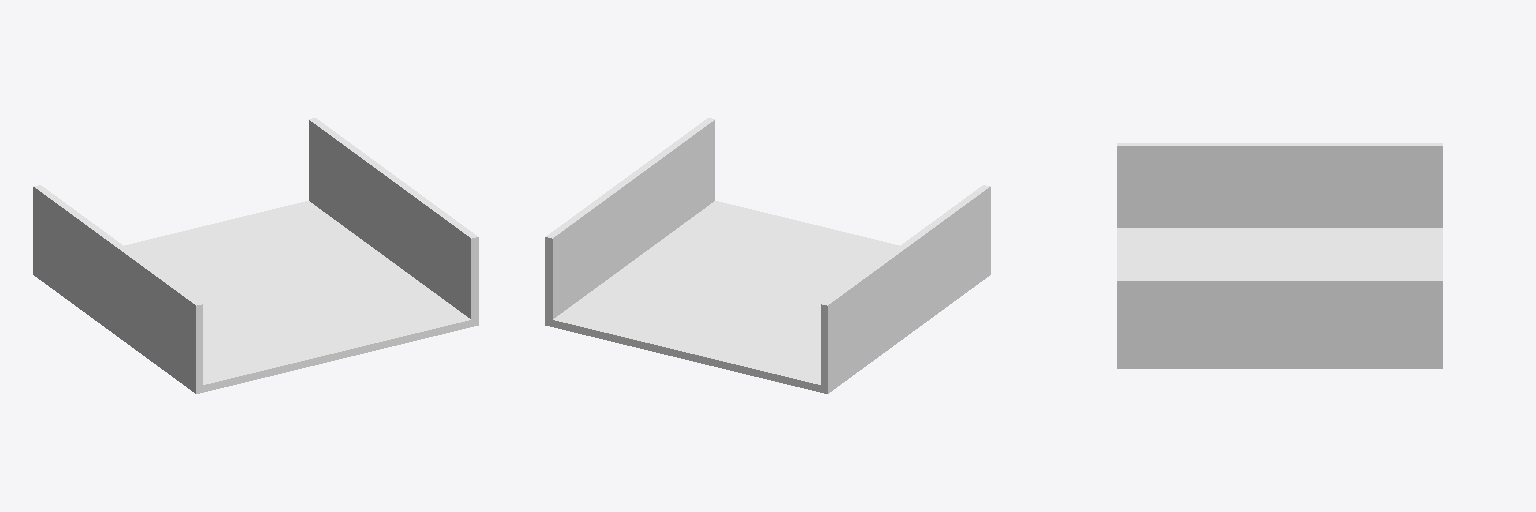
The model's file is RoadTileTrees.obj.
3 renders of one model, left to right at view 1: azimuth 30°, elevation 25°; view 2: azimuth 150°, elevation 25°; view 3: azimuth 270°, elevation 25°, orthographic.
Visible parts, largest first — view 1: object 1; view 2: object 1; view 3: object 1.
Boxes of the visible parts, box(x1,y1,x2,y2) form: object 1: box(33, 118, 478, 393); object 1: box(545, 118, 990, 393); object 1: box(1117, 143, 1442, 368).
Size of the model in its own units: 4 by 1.2 by 4.